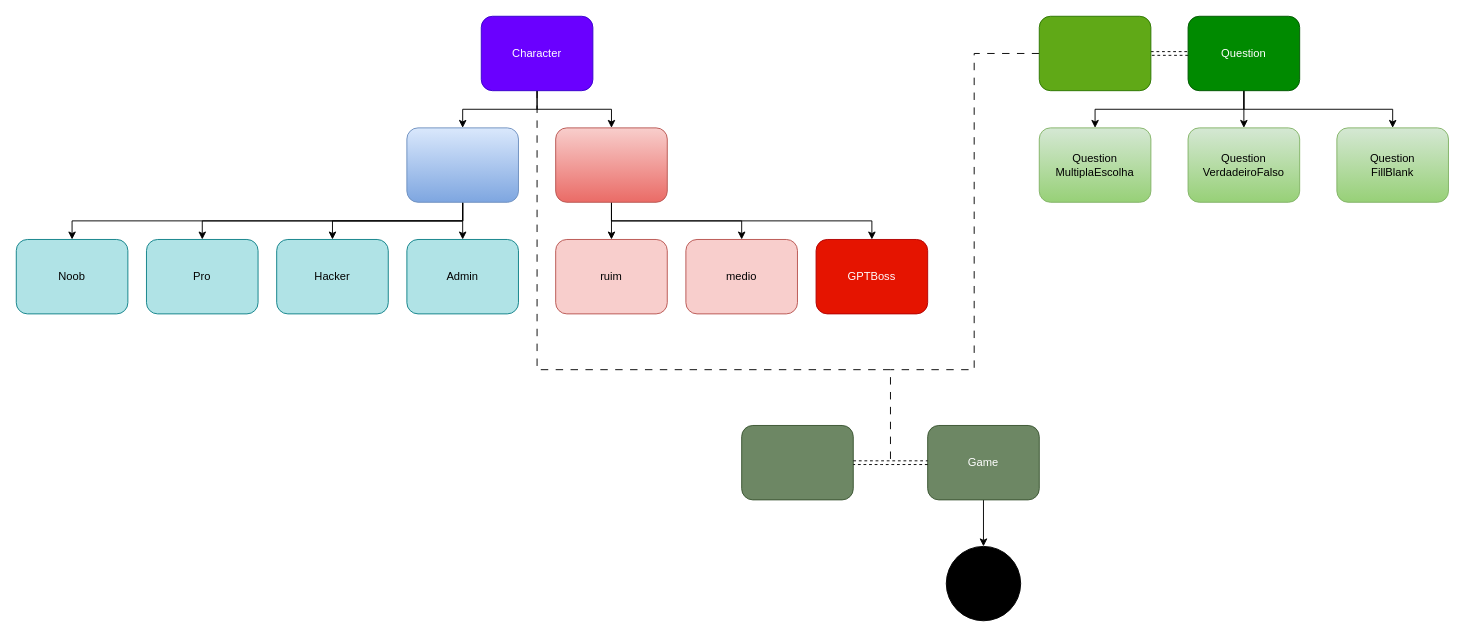
The diagram is 1465 pixels wide and 637 high, and some of its shapes have lost their labels. The centre of each missing label's shape, as x and y in pixels:
BattleManager: (797,462)
ClassePlayer: (462,164)
Enemy: (611,164)
Main: (983,583)
QuestionLoader: (1094,53)
